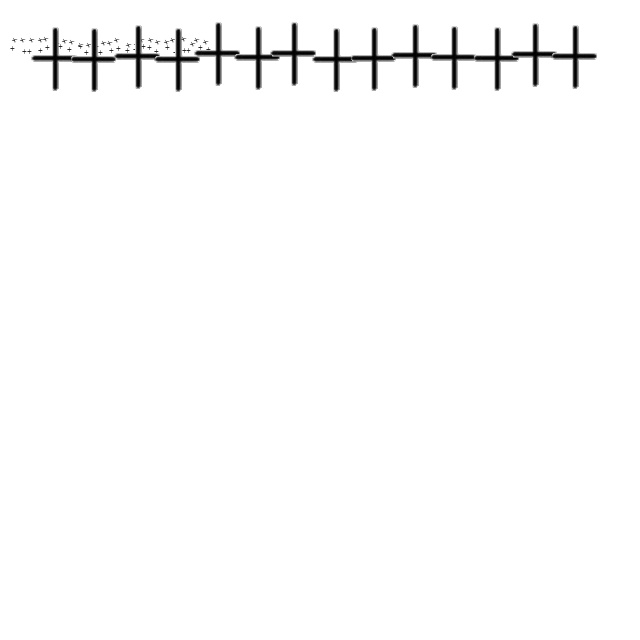double: (388, 24, 440, 90), (28, 28, 80, 92), (470, 28, 522, 92), (508, 24, 560, 88), (548, 26, 600, 90), (68, 28, 118, 94), (152, 28, 202, 94), (192, 22, 242, 88), (232, 26, 282, 92), (268, 22, 318, 88), (310, 28, 360, 94), (428, 26, 478, 92), (112, 26, 162, 90), (348, 28, 398, 92), (28, 37, 36, 43), (42, 36, 50, 42), (68, 39, 76, 45), (100, 40, 108, 46), (106, 40, 114, 46), (138, 37, 146, 43), (154, 39, 162, 45), (180, 36, 188, 42), (202, 39, 210, 45), (12, 37, 18, 43), (20, 37, 26, 43), (38, 37, 44, 43), (54, 41, 60, 47), (62, 38, 68, 44), (78, 42, 84, 48), (86, 42, 92, 48), (92, 37, 98, 43), (114, 37, 120, 43), (126, 42, 132, 48), (134, 41, 140, 47), (148, 37, 154, 43), (164, 39, 170, 45), (170, 37, 176, 43), (190, 41, 196, 47), (194, 37, 200, 43), (10, 46, 16, 52), (38, 48, 44, 54), (52, 50, 58, 56), (58, 44, 64, 50), (78, 44, 84, 50), (84, 50, 90, 56), (94, 44, 100, 50), (98, 50, 104, 56), (116, 46, 122, 52), (182, 48, 188, 54), (186, 48, 192, 54), (22, 50, 28, 54), (110, 48, 114, 54), (126, 48, 130, 54), (142, 44, 146, 50), (154, 50, 160, 54), (174, 50, 178, 56), (198, 46, 204, 50), (206, 48, 212, 52), (28, 50, 32, 54), (46, 46, 50, 50), (68, 48, 72, 52), (134, 48, 138, 52), (148, 46, 152, 50), (166, 46, 170, 50)
